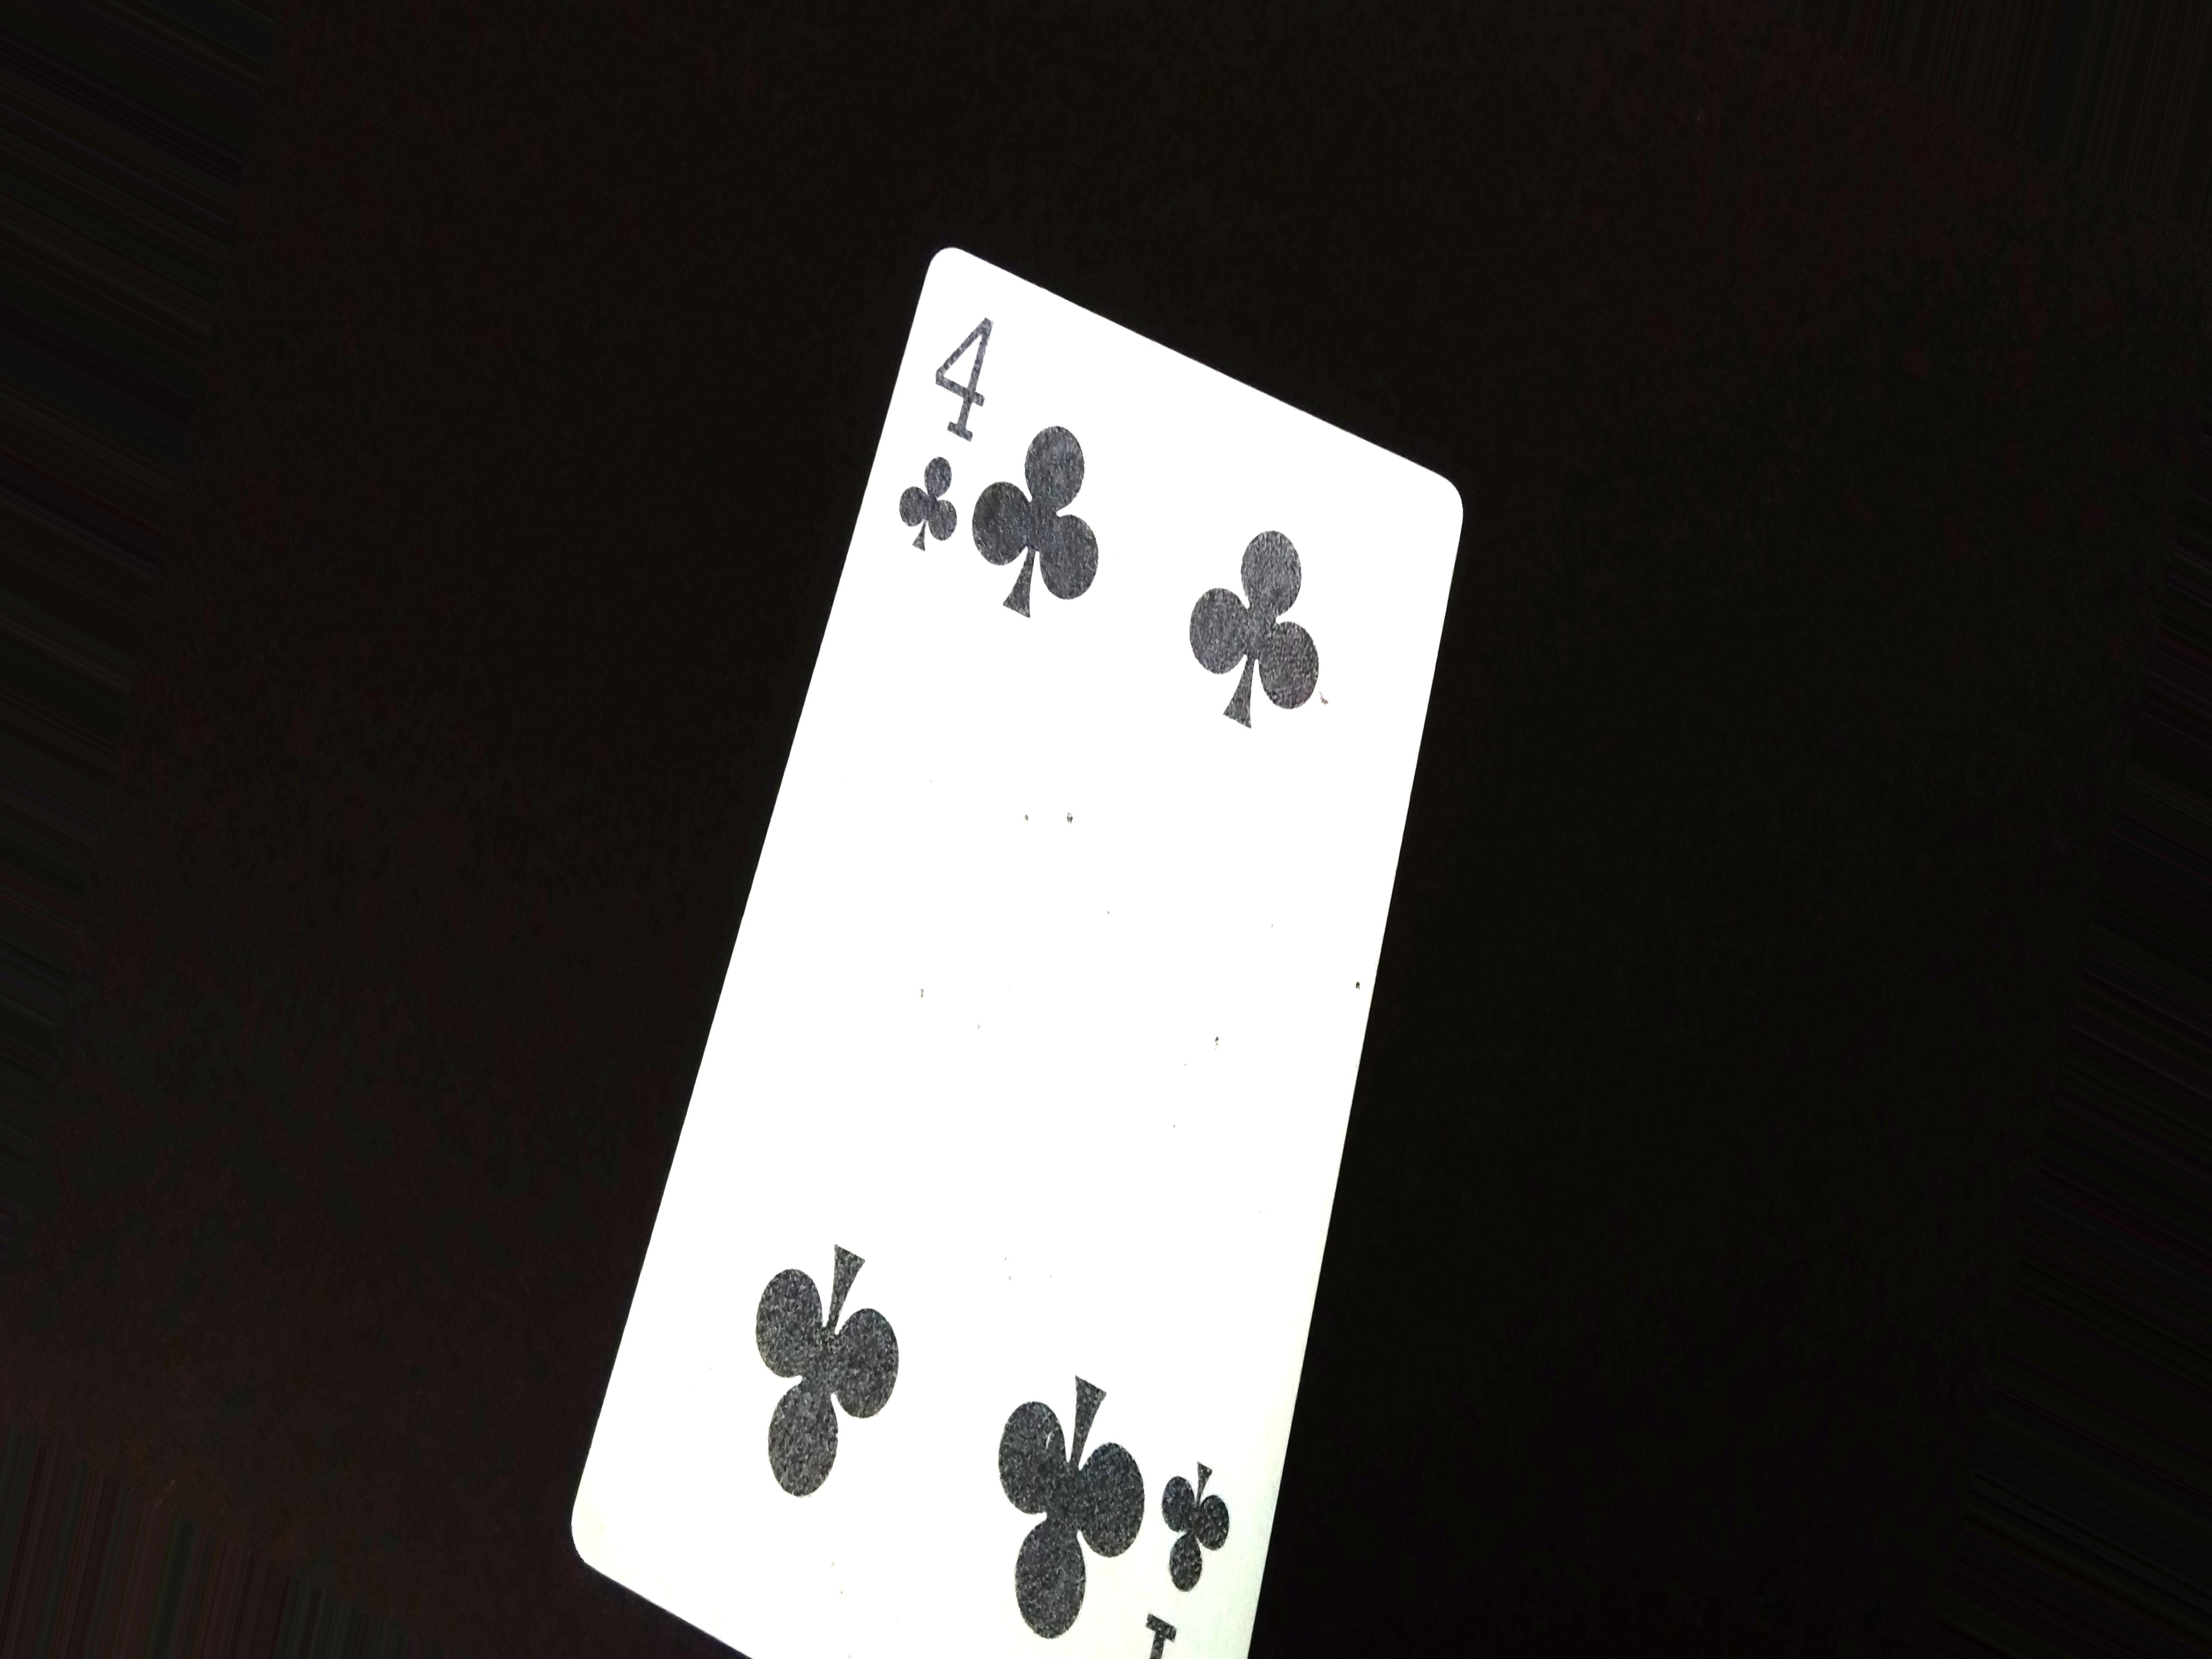4C: (876, 308, 995, 561)
